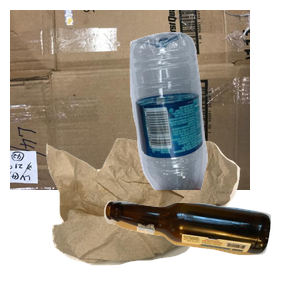cardboard: (10, 10, 250, 190)
glass: (101, 198, 300, 300)
plastic: (127, 29, 300, 209)
trash: (44, 136, 277, 300)
